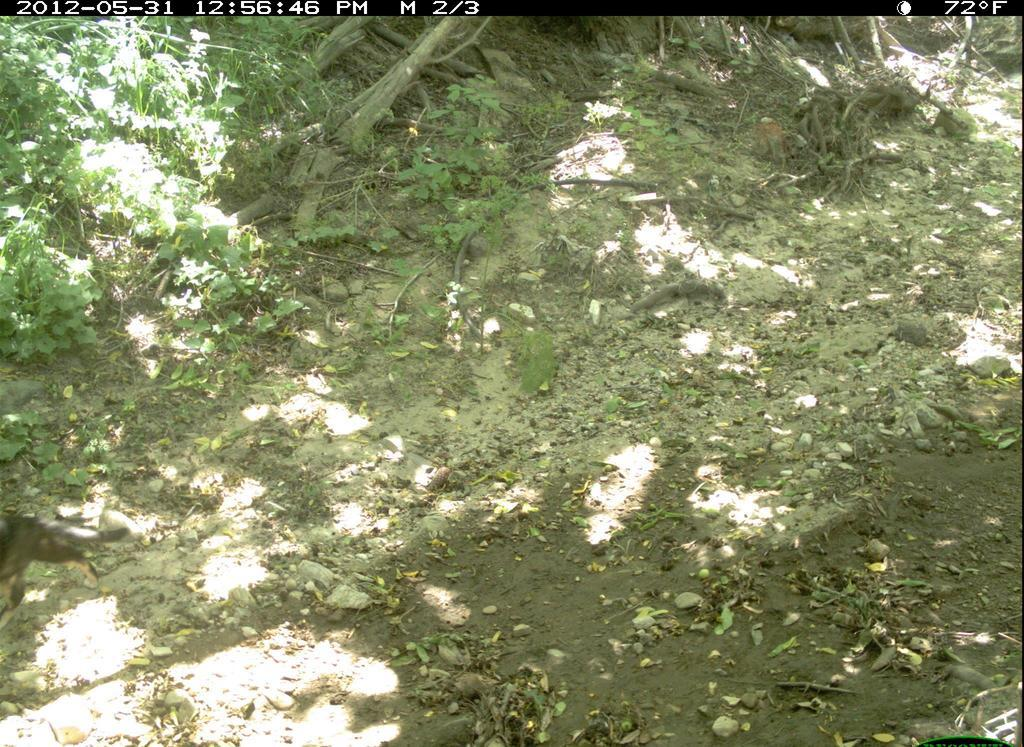cat: (2, 507, 132, 623)
